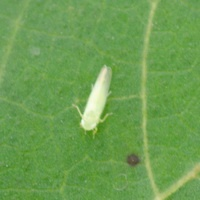insect: (73, 65, 111, 137)
